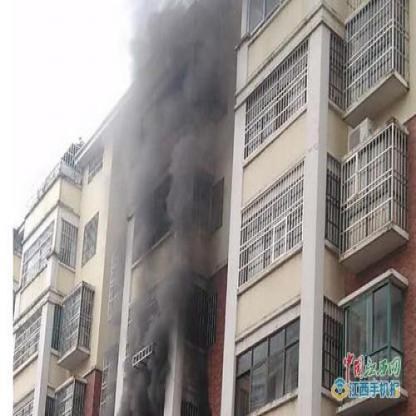smoke: (134, 1, 207, 84), (121, 290, 170, 412), (170, 126, 208, 266), (136, 119, 160, 252)
